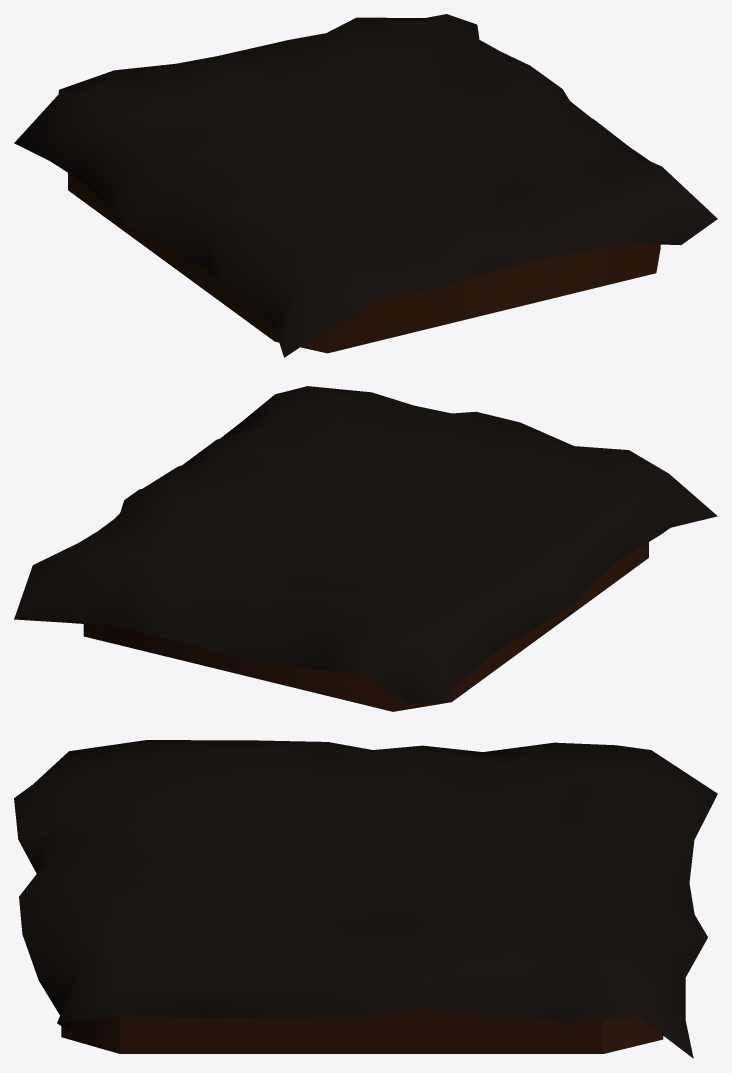
File: Trampa_Cubierta3aversion.FBX
The picture shows the model from 3 angles, top to bottom: view 1: azimuth 30°, elevation 25°; view 2: azimuth 150°, elevation 25°; view 3: azimuth 270°, elevation 25°; orthographic projection. The views are drawn at different scales.
Parts seen in each view (by area): view 1: BaseCubierta; view 2: BaseCubierta; view 3: BaseCubierta.
Part boxes in pixels (box(x1,y1,x2,y2)): BaseCubierta: box(14, 14, 717, 357); BaseCubierta: box(14, 386, 717, 711); BaseCubierta: box(14, 740, 717, 1058).
Bounding box in the file's own units: 423 × 72.88 × 482.
